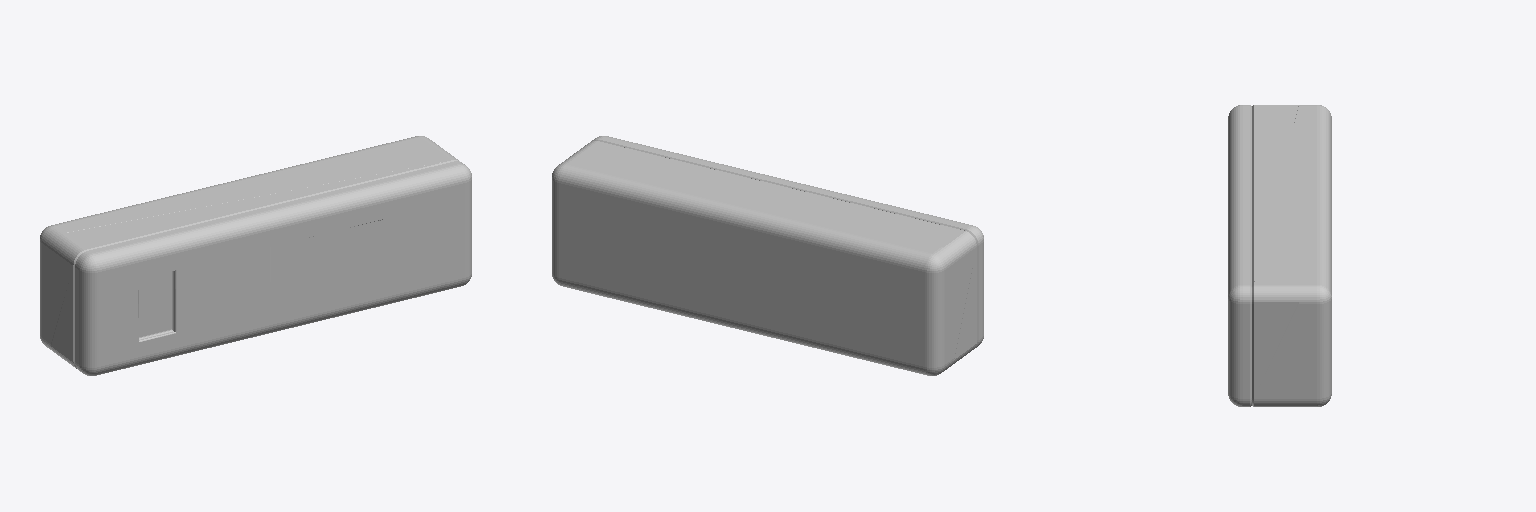
File: mainGadget.obj
The picture shows the model from 3 angles: view 1: azimuth 30°, elevation 25°; view 2: azimuth 150°, elevation 25°; view 3: azimuth 270°, elevation 25°; orthographic projection.
Parts seen in each view (by area): view 1: Mounted_Gadget; view 2: Mounted_Gadget; view 3: Mounted_Gadget.
Part boxes in pixels (x1,y1,x2,y2): Mounted_Gadget: (40,136,471,375); Mounted_Gadget: (552,136,983,375); Mounted_Gadget: (1228,105,1331,406).
Bounding box in the file's own units: 0.3286 × 0.0973 × 0.0756.